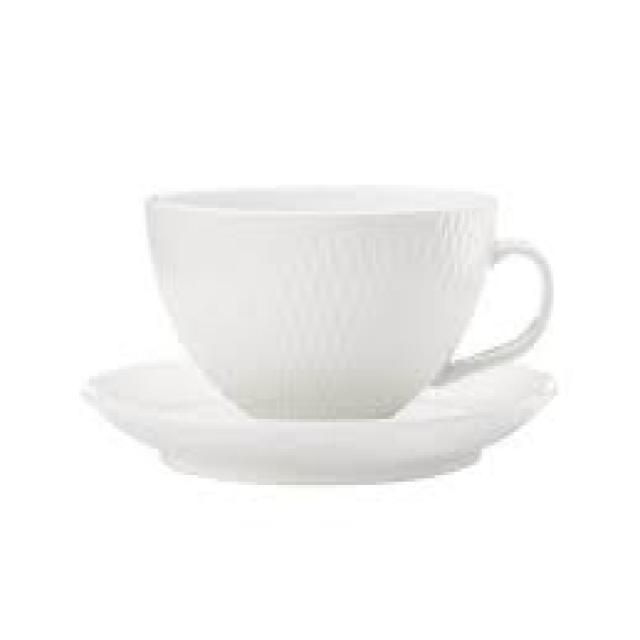taza: (123, 160, 564, 440)
